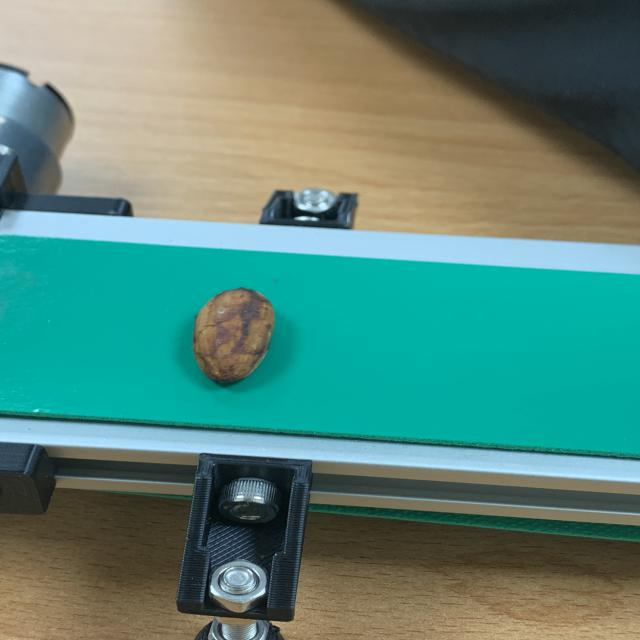Fine_cocoabeans: (113, 277, 349, 411)
